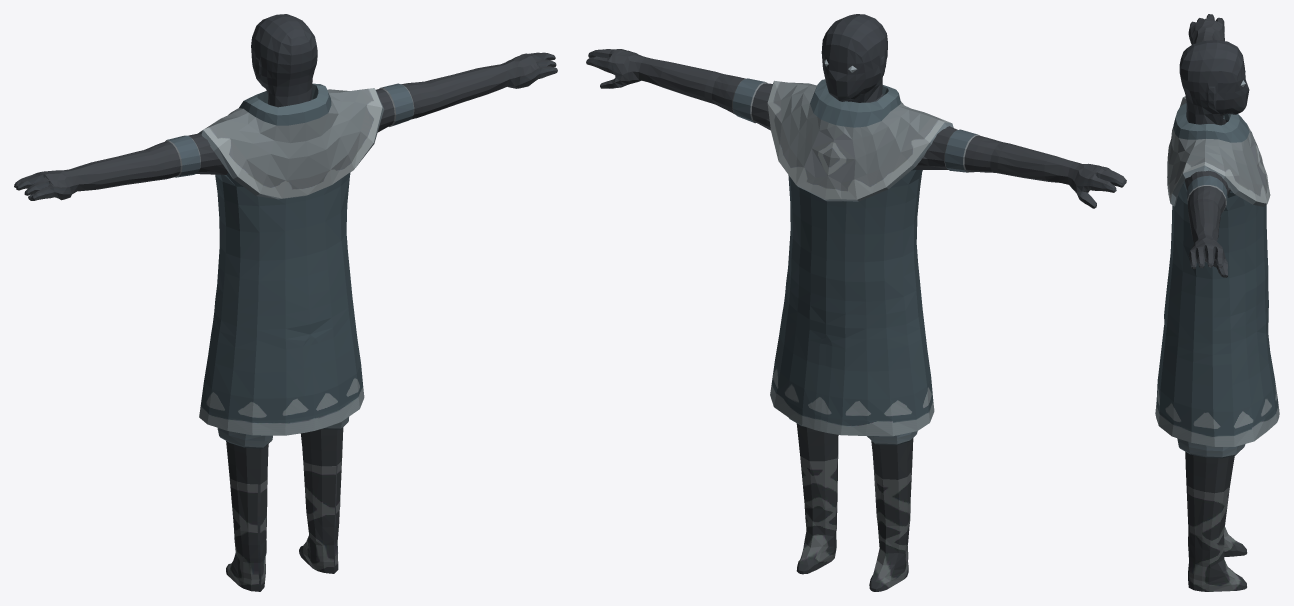
Rendered from CharSkyNPC_Body_MaleCivilian.glb.
3 renders of one model, left to right at view 1: azimuth 30°, elevation 25°; view 2: azimuth 150°, elevation 25°; view 3: azimuth 270°, elevation 25°, orthographic. The views are drawn at different scales.
Parts seen in each view (by area): view 1: CharSkyNPC_Body_MaleCivilian; view 2: CharSkyNPC_Body_MaleCivilian; view 3: CharSkyNPC_Body_MaleCivilian.
Part boxes in pixels (x1,y1,x2,y2): CharSkyNPC_Body_MaleCivilian: (14,14,557,591); CharSkyNPC_Body_MaleCivilian: (586,14,1126,591); CharSkyNPC_Body_MaleCivilian: (1155,14,1279,591).
Size of the model in its own units: 13.87 by 13.68 by 2.92.
1 material, 1 textured.
